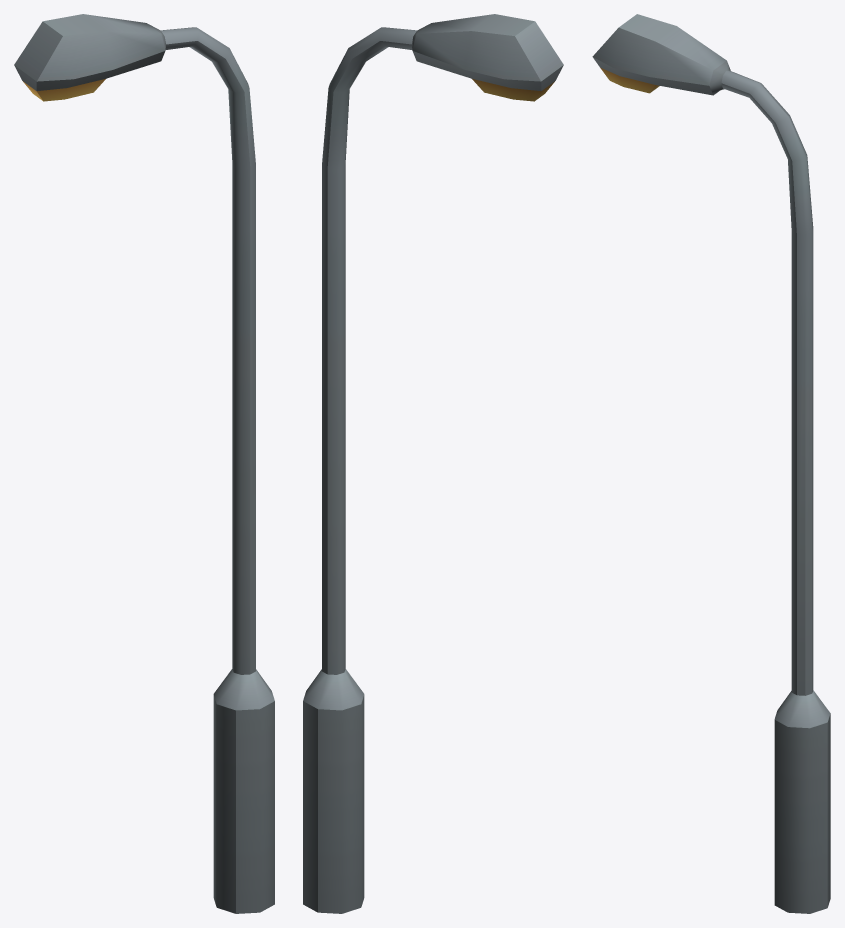
Rendered from streetlight.glb.
3 renders of one model, left to right at view 1: azimuth 30°, elevation 25°; view 2: azimuth 150°, elevation 25°; view 3: azimuth 330°, elevation 25°, orthographic. The views are drawn at different scales.
Visible parts, largest first — view 1: streetlight; view 2: streetlight; view 3: streetlight.
Part boxes in pixels (x1,y1,x2,y2): streetlight: [14, 14, 274, 913]; streetlight: [303, 14, 563, 913]; streetlight: [592, 14, 830, 913].
Bounding box in the file's own units: 0.2693 × 0.9599 × 0.069.
1 material, 1 textured.
